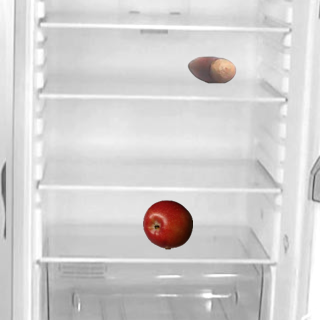Apple Braeburn: (142, 199, 192, 249)
Hazelnut: (186, 44, 236, 94)
